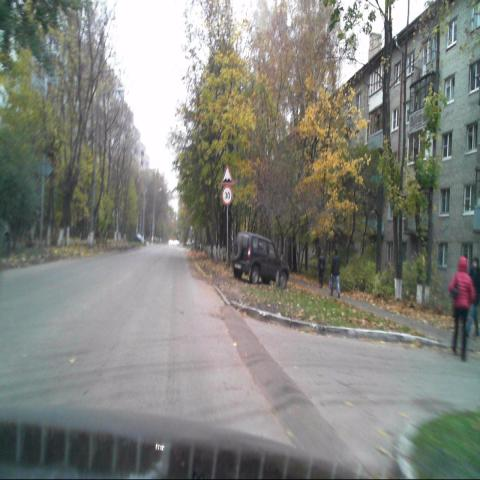1_16: (221, 166, 232, 185)
